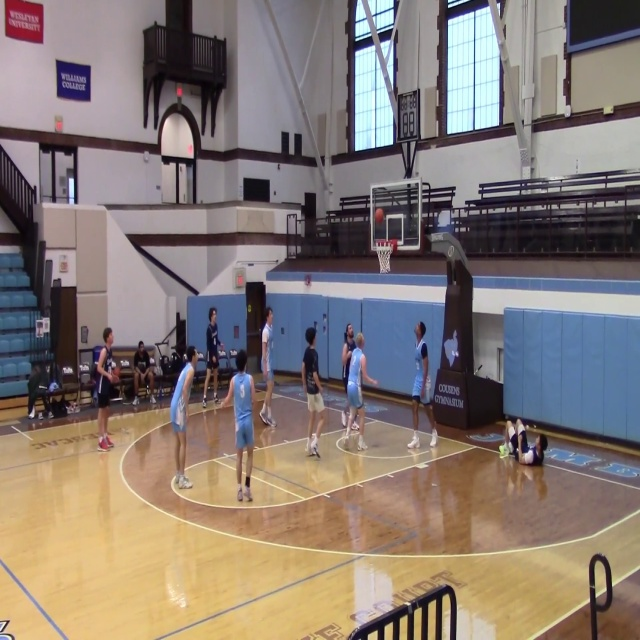Basketball: (374, 208, 384, 223)
